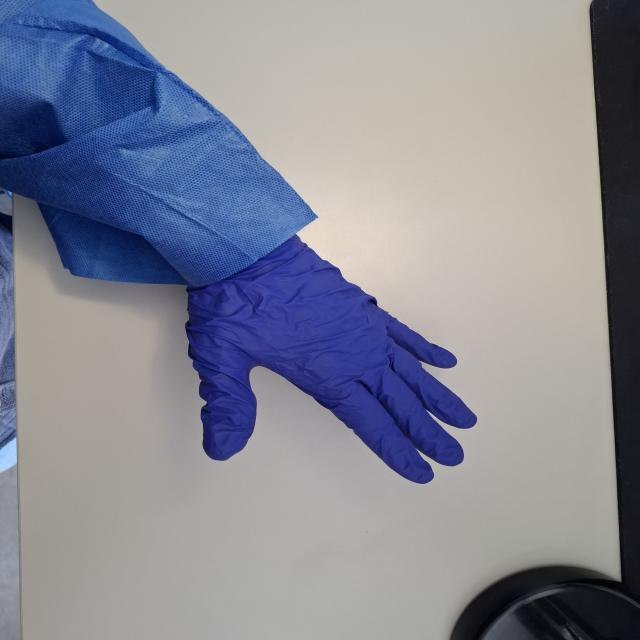glove_on: (168, 222, 481, 488)
